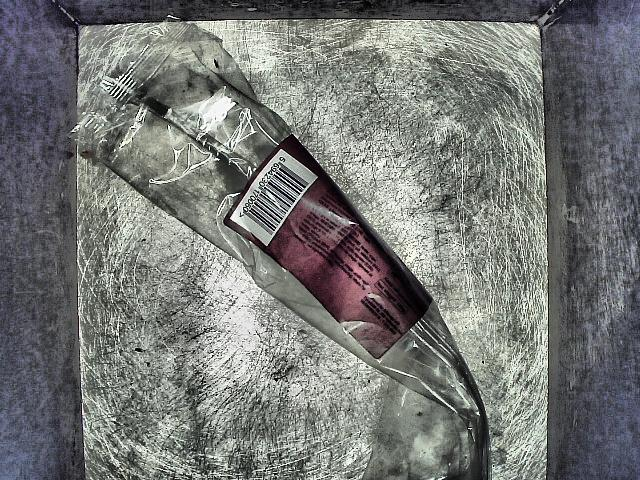Plastic: (69, 23, 492, 480)
